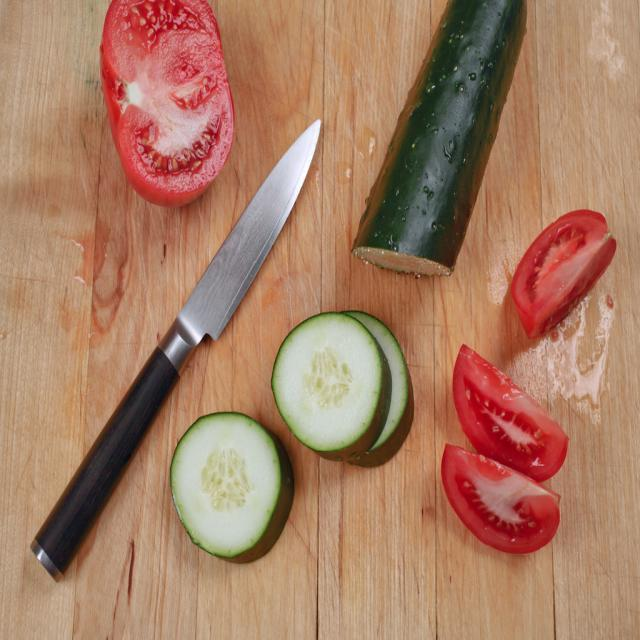Knife: (32, 120, 320, 578)
